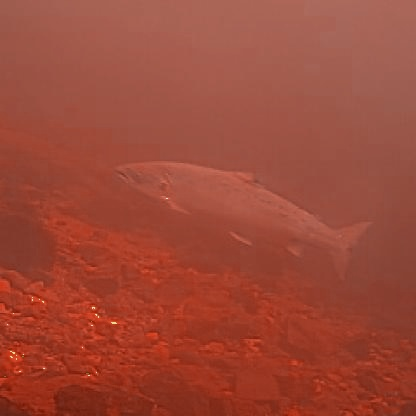salmon: (107, 154, 372, 281)
